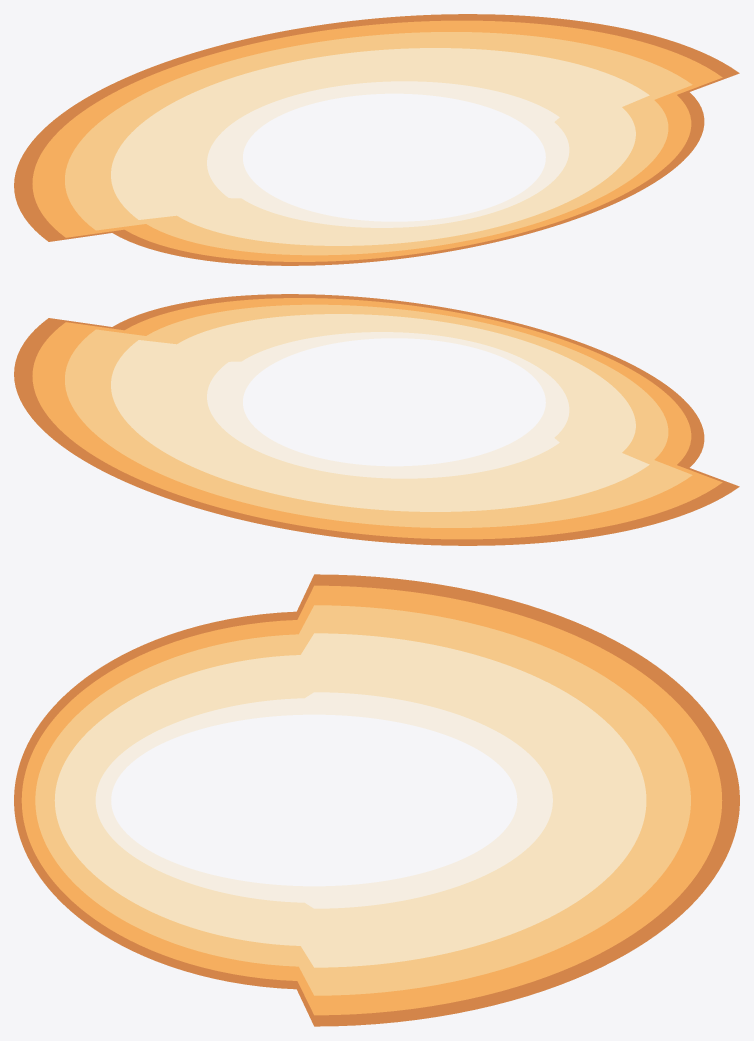
The model's file is gargantua_halo.glb.
The picture shows the model from 3 angles, top to bottom: view 1: azimuth 30°, elevation 25°; view 2: azimuth 150°, elevation 25°; view 3: azimuth 270°, elevation 25°; orthographic projection. The views are drawn at different scales.
Visible parts, largest first — view 1: gargantua_halo; view 2: gargantua_halo; view 3: gargantua_halo.
Boxes of the visible parts, x1,y1,x2,y2 form: gargantua_halo: (14,14,739,265); gargantua_halo: (14,294,739,545); gargantua_halo: (14,574,739,1026).
Bounding box in the file's own units: 9.8 × 0 × 6.65.
